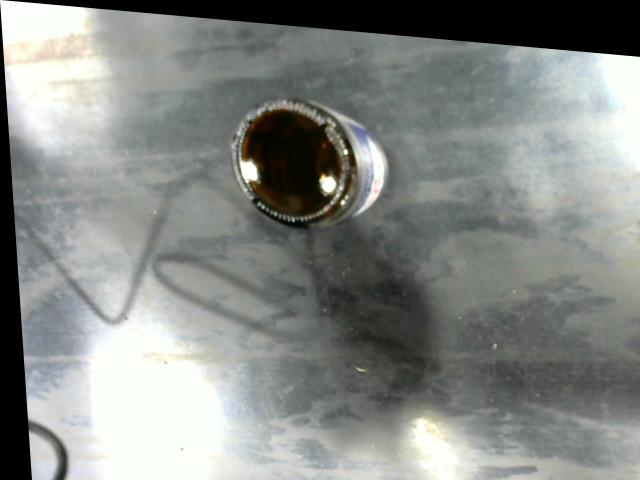glass: (227, 88, 395, 237)
